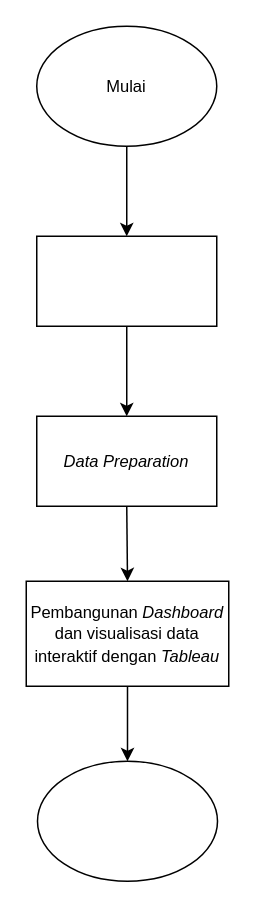
This 255x908 diagram has some shape labels left out. Each missing label, with the box of its shape:
Perancangan Visualisasi Data: (35, 235, 217, 326)
Selesai: (36, 760, 218, 881)
